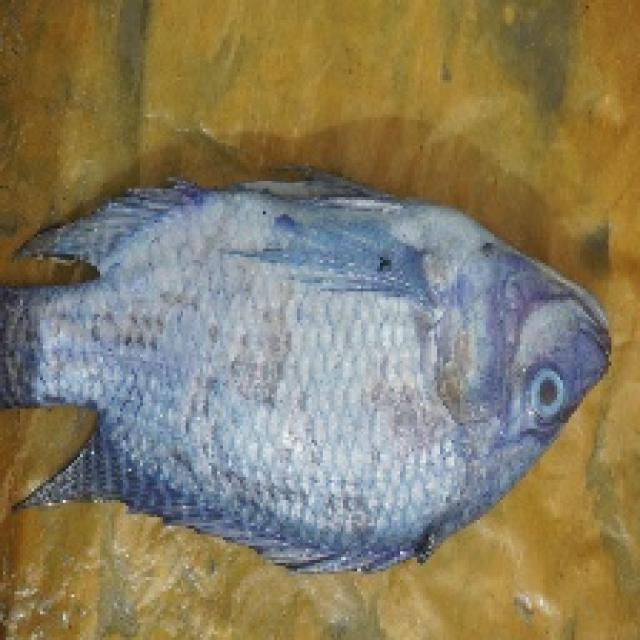Non-Fresh: (509, 356, 572, 424)
